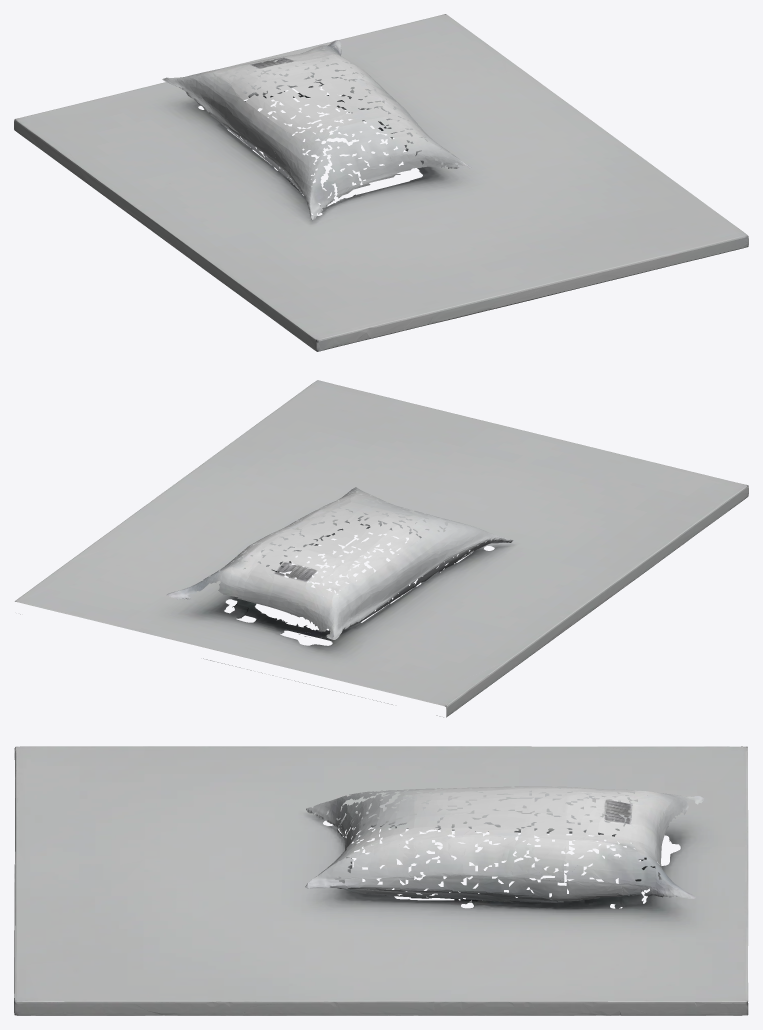
3 views of the same model, one above another, from view 1: azimuth 30°, elevation 25°; view 2: azimuth 150°, elevation 25°; view 3: azimuth 270°, elevation 25° (orthographic). The views are drawn at different scales.
Visible parts, largest first — view 1: geometry_0; view 2: geometry_0; view 3: geometry_0.
Part boxes in pixels (x1,y1,x2,y2): geometry_0: (14,14,748,351); geometry_0: (15,380,748,717); geometry_0: (14,746,748,1015).
Bounding box in the file's own units: 0.8231 × 0.113 × 1.
1 material, 1 textured.
